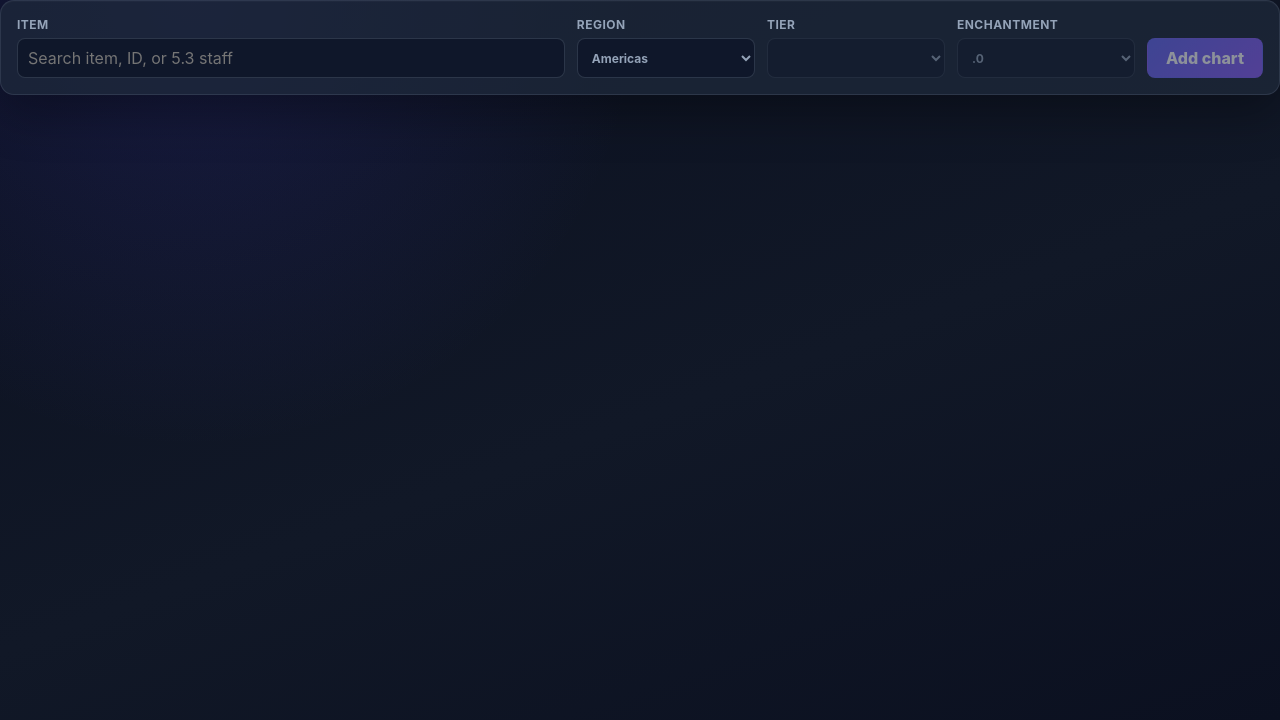
Test: SearchPanel › closes suggestions on outside click or Escape
In the field labelled "Item": (291,58) [17, 38, 565, 78], type "Iron Ore"
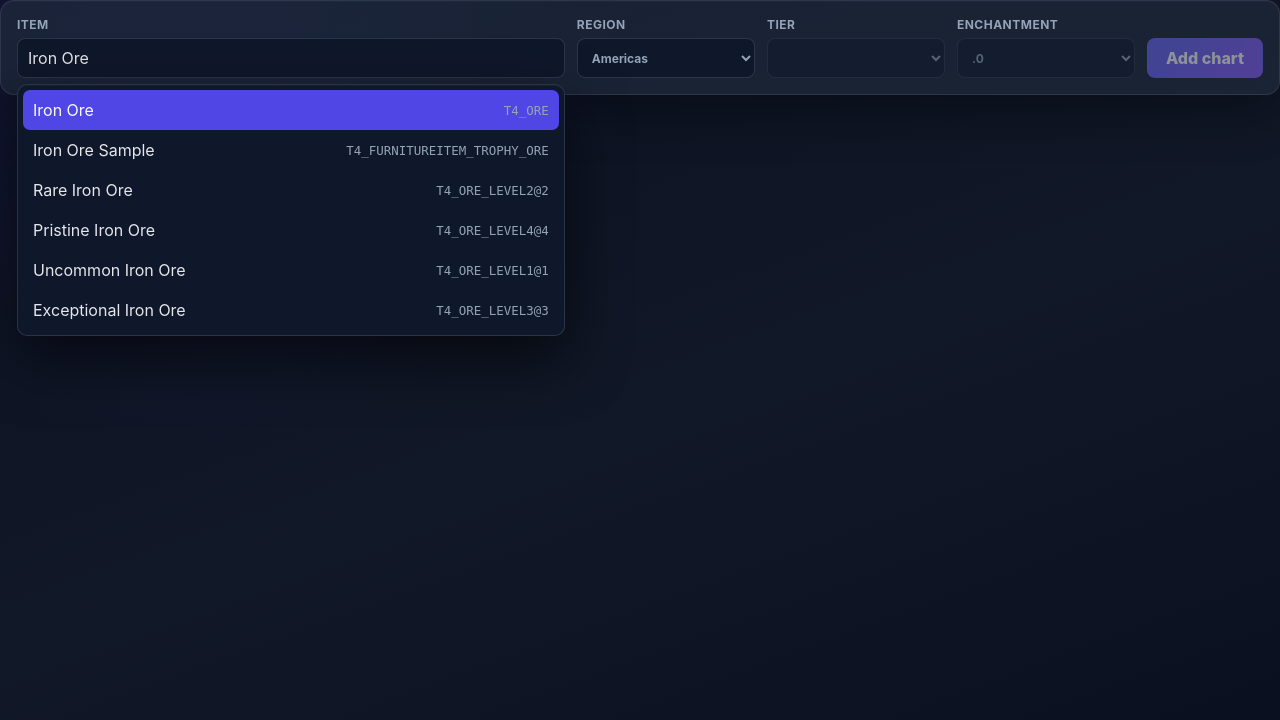
Expected: the list is shown, [17, 84, 565, 336]
Press the mouse on the element that starts with "Item": (640,360) [0, 0, 1279, 719]
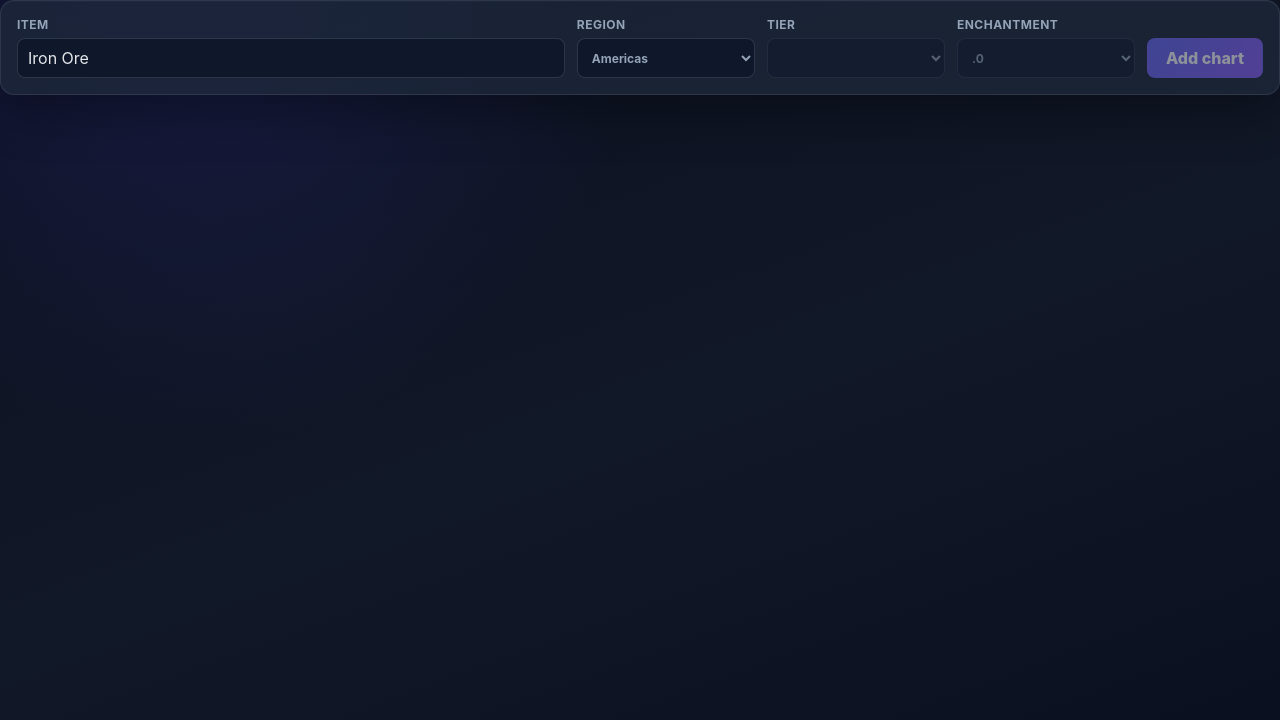
Expected: the list is gone
Focus the field labelled "Item": (291,58) [17, 38, 565, 78]
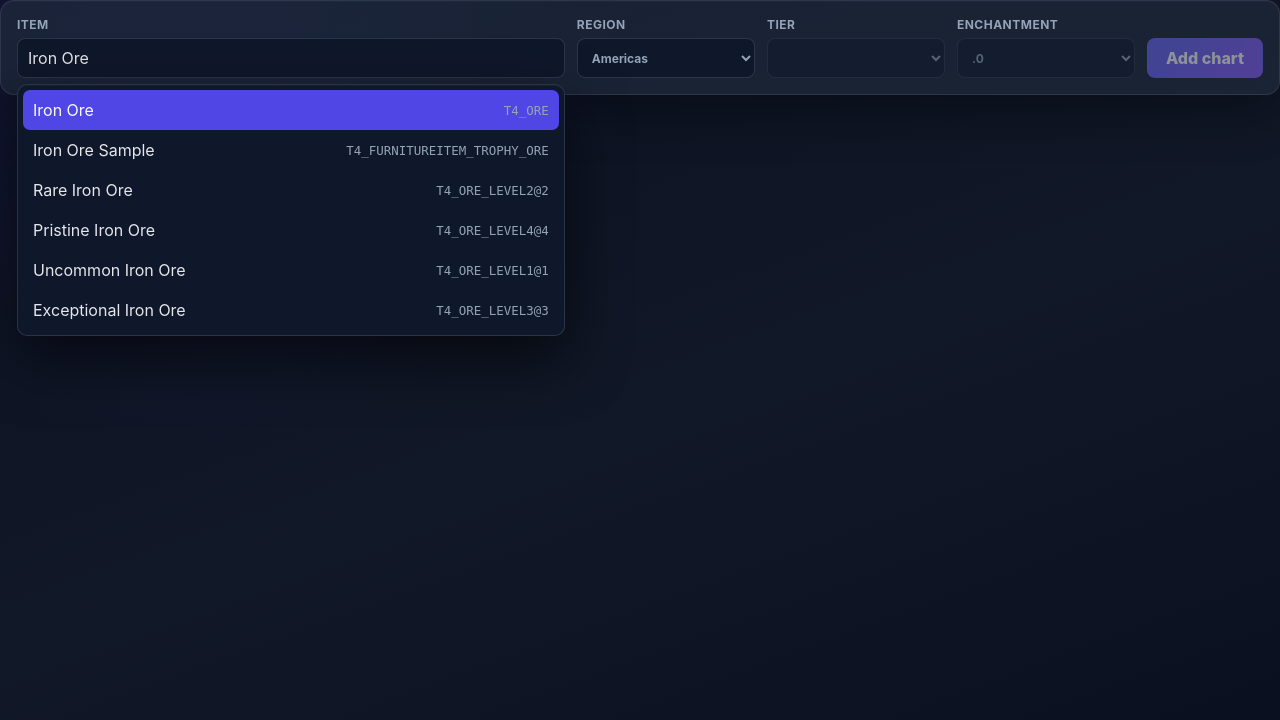
Expected: the list is shown, [17, 84, 565, 336]
Press Escape
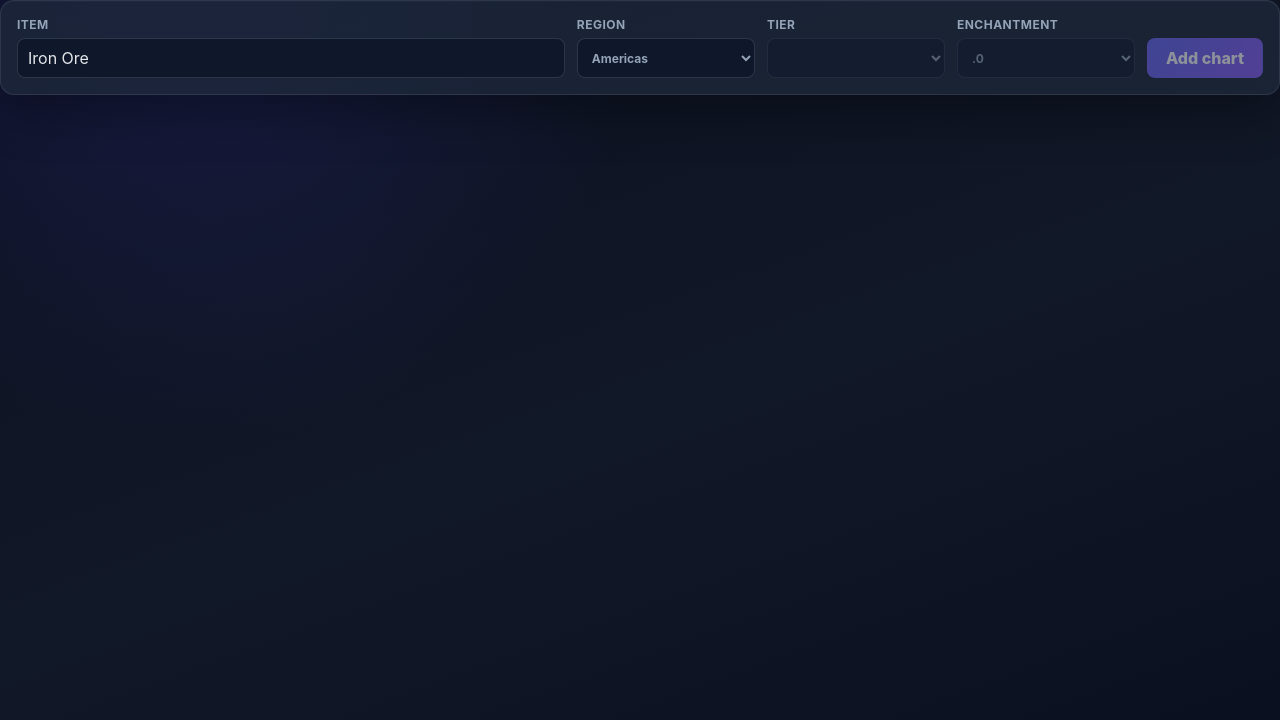
Expected: the list is gone
